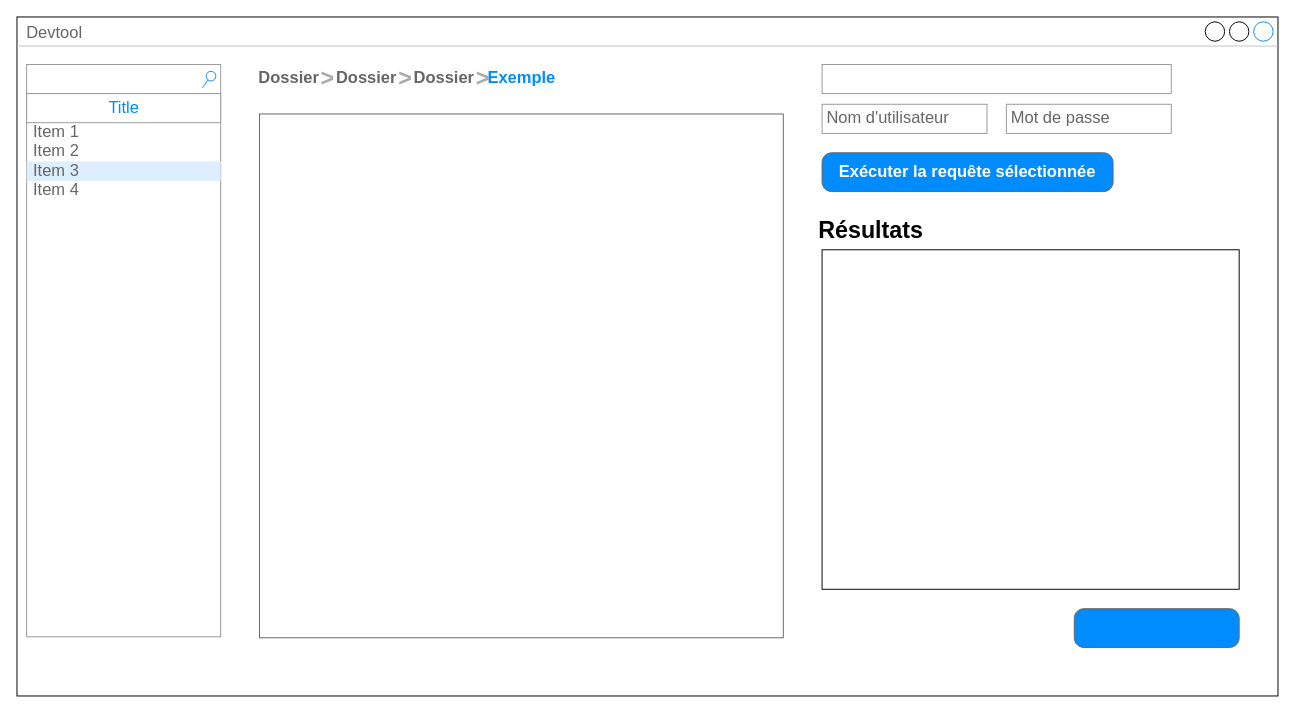
Image size: 1295x713. Some labels were removed from this diagram. Each missing label, with the centre of its shape:
Export CSV: (1156,627)
Filtrer: (123,79)
Header 1 Header 2 row 1, cell 1 row 1, cell 2 row 2, cell 1 row 2, cell 2: (1030,419)
select foo from bar where foo > 0;: (521,375)
Serveur: (996,79)
